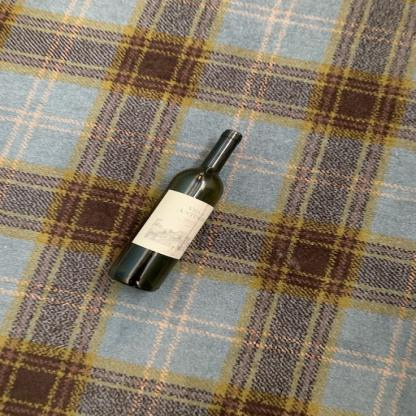trash: (105, 128, 243, 293)
